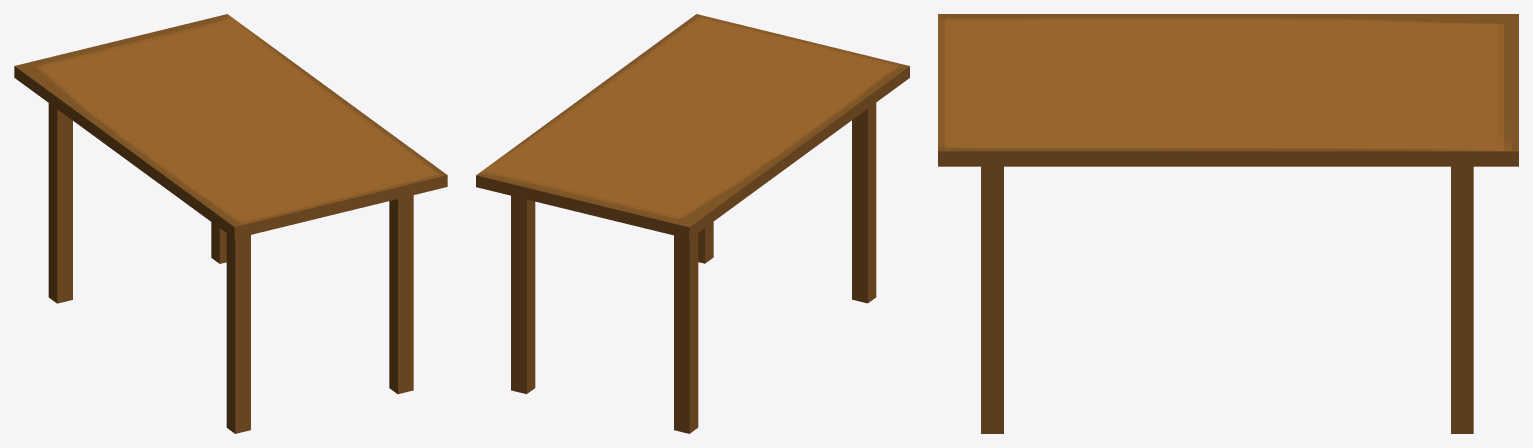
Rendered from mesa.glb.
3 renders of one model, left to right at view 1: azimuth 30°, elevation 25°; view 2: azimuth 150°, elevation 25°; view 3: azimuth 270°, elevation 25°, orthographic. The views are drawn at different scales.
Parts seen in each view (by area): view 1: Cube, Cube.001, Cube.004, Cube.002, Cube.003; view 2: Cube, Cube.002, Cube.003, Cube.001, Cube.004; view 3: Cube, Cube.003, Cube.004.
Part boxes in pixels (x1,y1,x2,y2): Cube: (14,14,447,238); Cube.001: (226,233,250,433); Cube.004: (389,195,413,394); Cube.002: (48,103,72,303); Cube.003: (211,222,226,263); Cube: (476,14,909,238); Cube.002: (674,233,698,433); Cube.003: (511,195,535,394); Cube.001: (852,103,876,303); Cube.004: (698,222,713,263); Cube: (938,14,1518,166); Cube.003: (1451,166,1473,433); Cube.004: (981,166,1003,433).
Bounding box in the file's own units: 1.14 × 1.14 × 2.04.
Materials: 2 (2 with a texture image).
